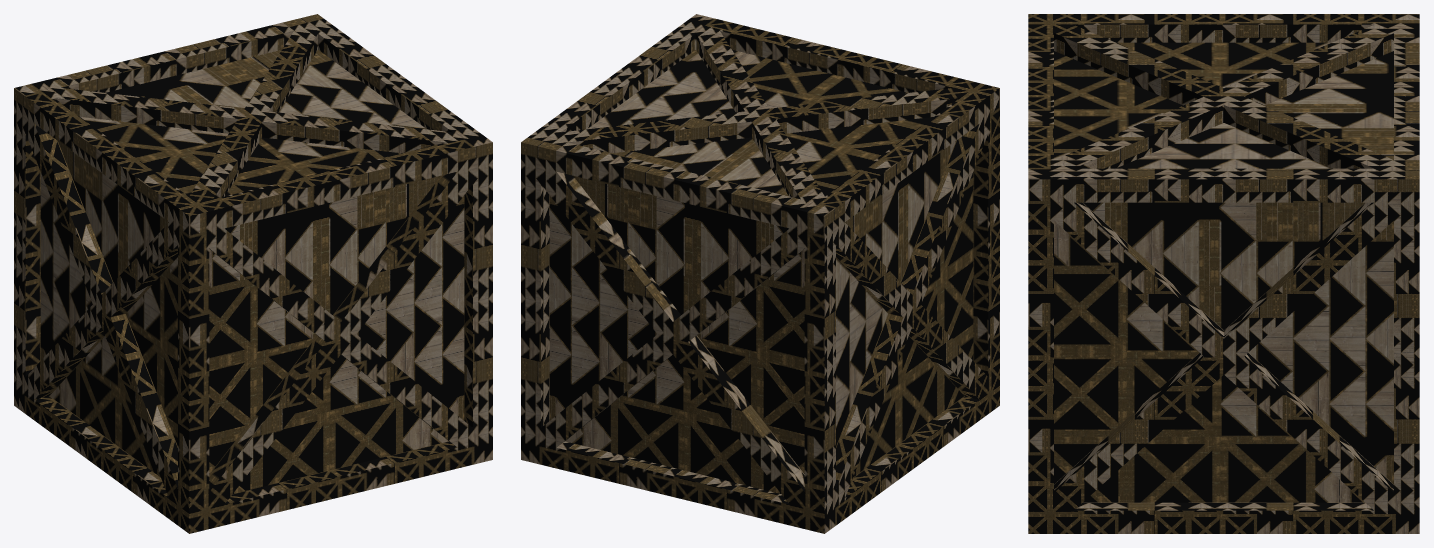
The model's file is woodBox.fbx.
3 views of the same model, side by side, from view 1: azimuth 30°, elevation 25°; view 2: azimuth 150°, elevation 25°; view 3: azimuth 270°, elevation 25° (orthographic). The views are drawn at different scales.
Parts seen in each view (by area): view 1: Cube.002; view 2: Cube.002; view 3: Cube.002.
Part boxes in pixels (bbox=[...]): Cube.002: bbox=[14, 14, 492, 533]; Cube.002: bbox=[521, 14, 999, 533]; Cube.002: bbox=[1028, 14, 1419, 533].
Size of the model in its own units: 100 by 100 by 100.
1 material, 1 textured.
